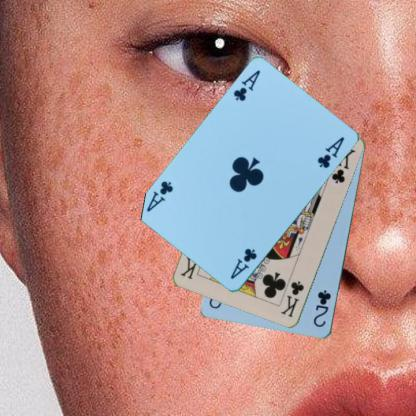2c: (311, 288, 333, 328)
Ac: (230, 67, 262, 102), (228, 245, 258, 280)
Kc: (278, 278, 306, 319)
